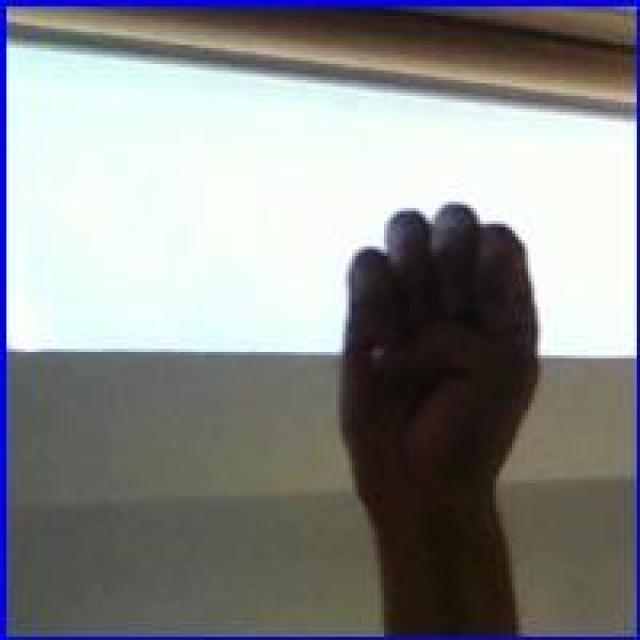E: (332, 202, 542, 508)
